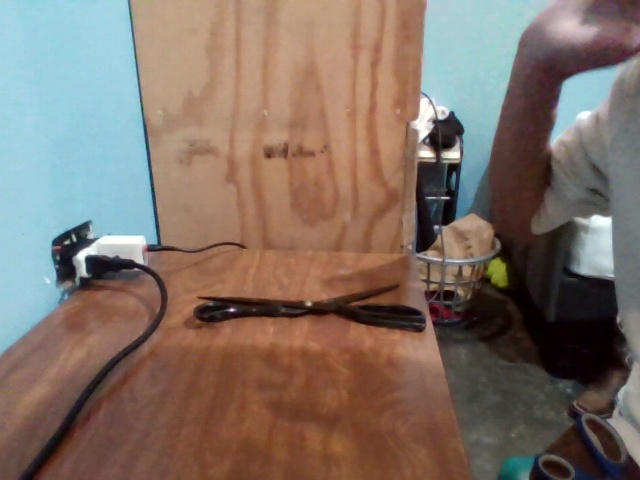tijeras: (193, 276, 432, 343)
